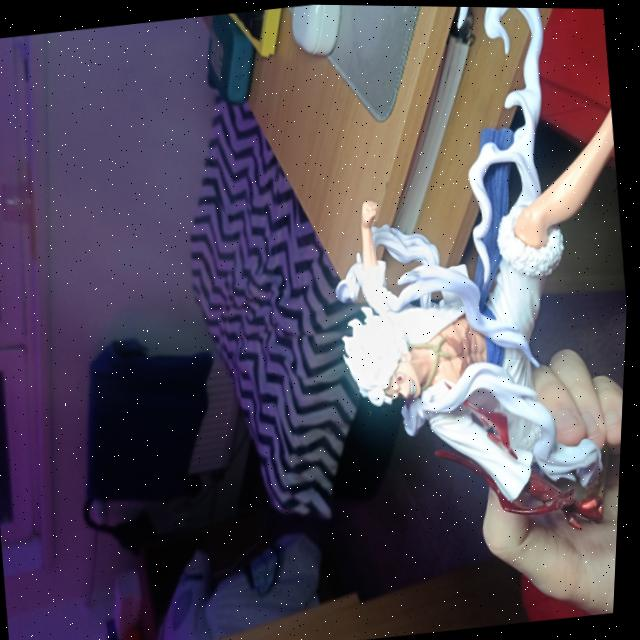luffy: (284, 4, 640, 550)
